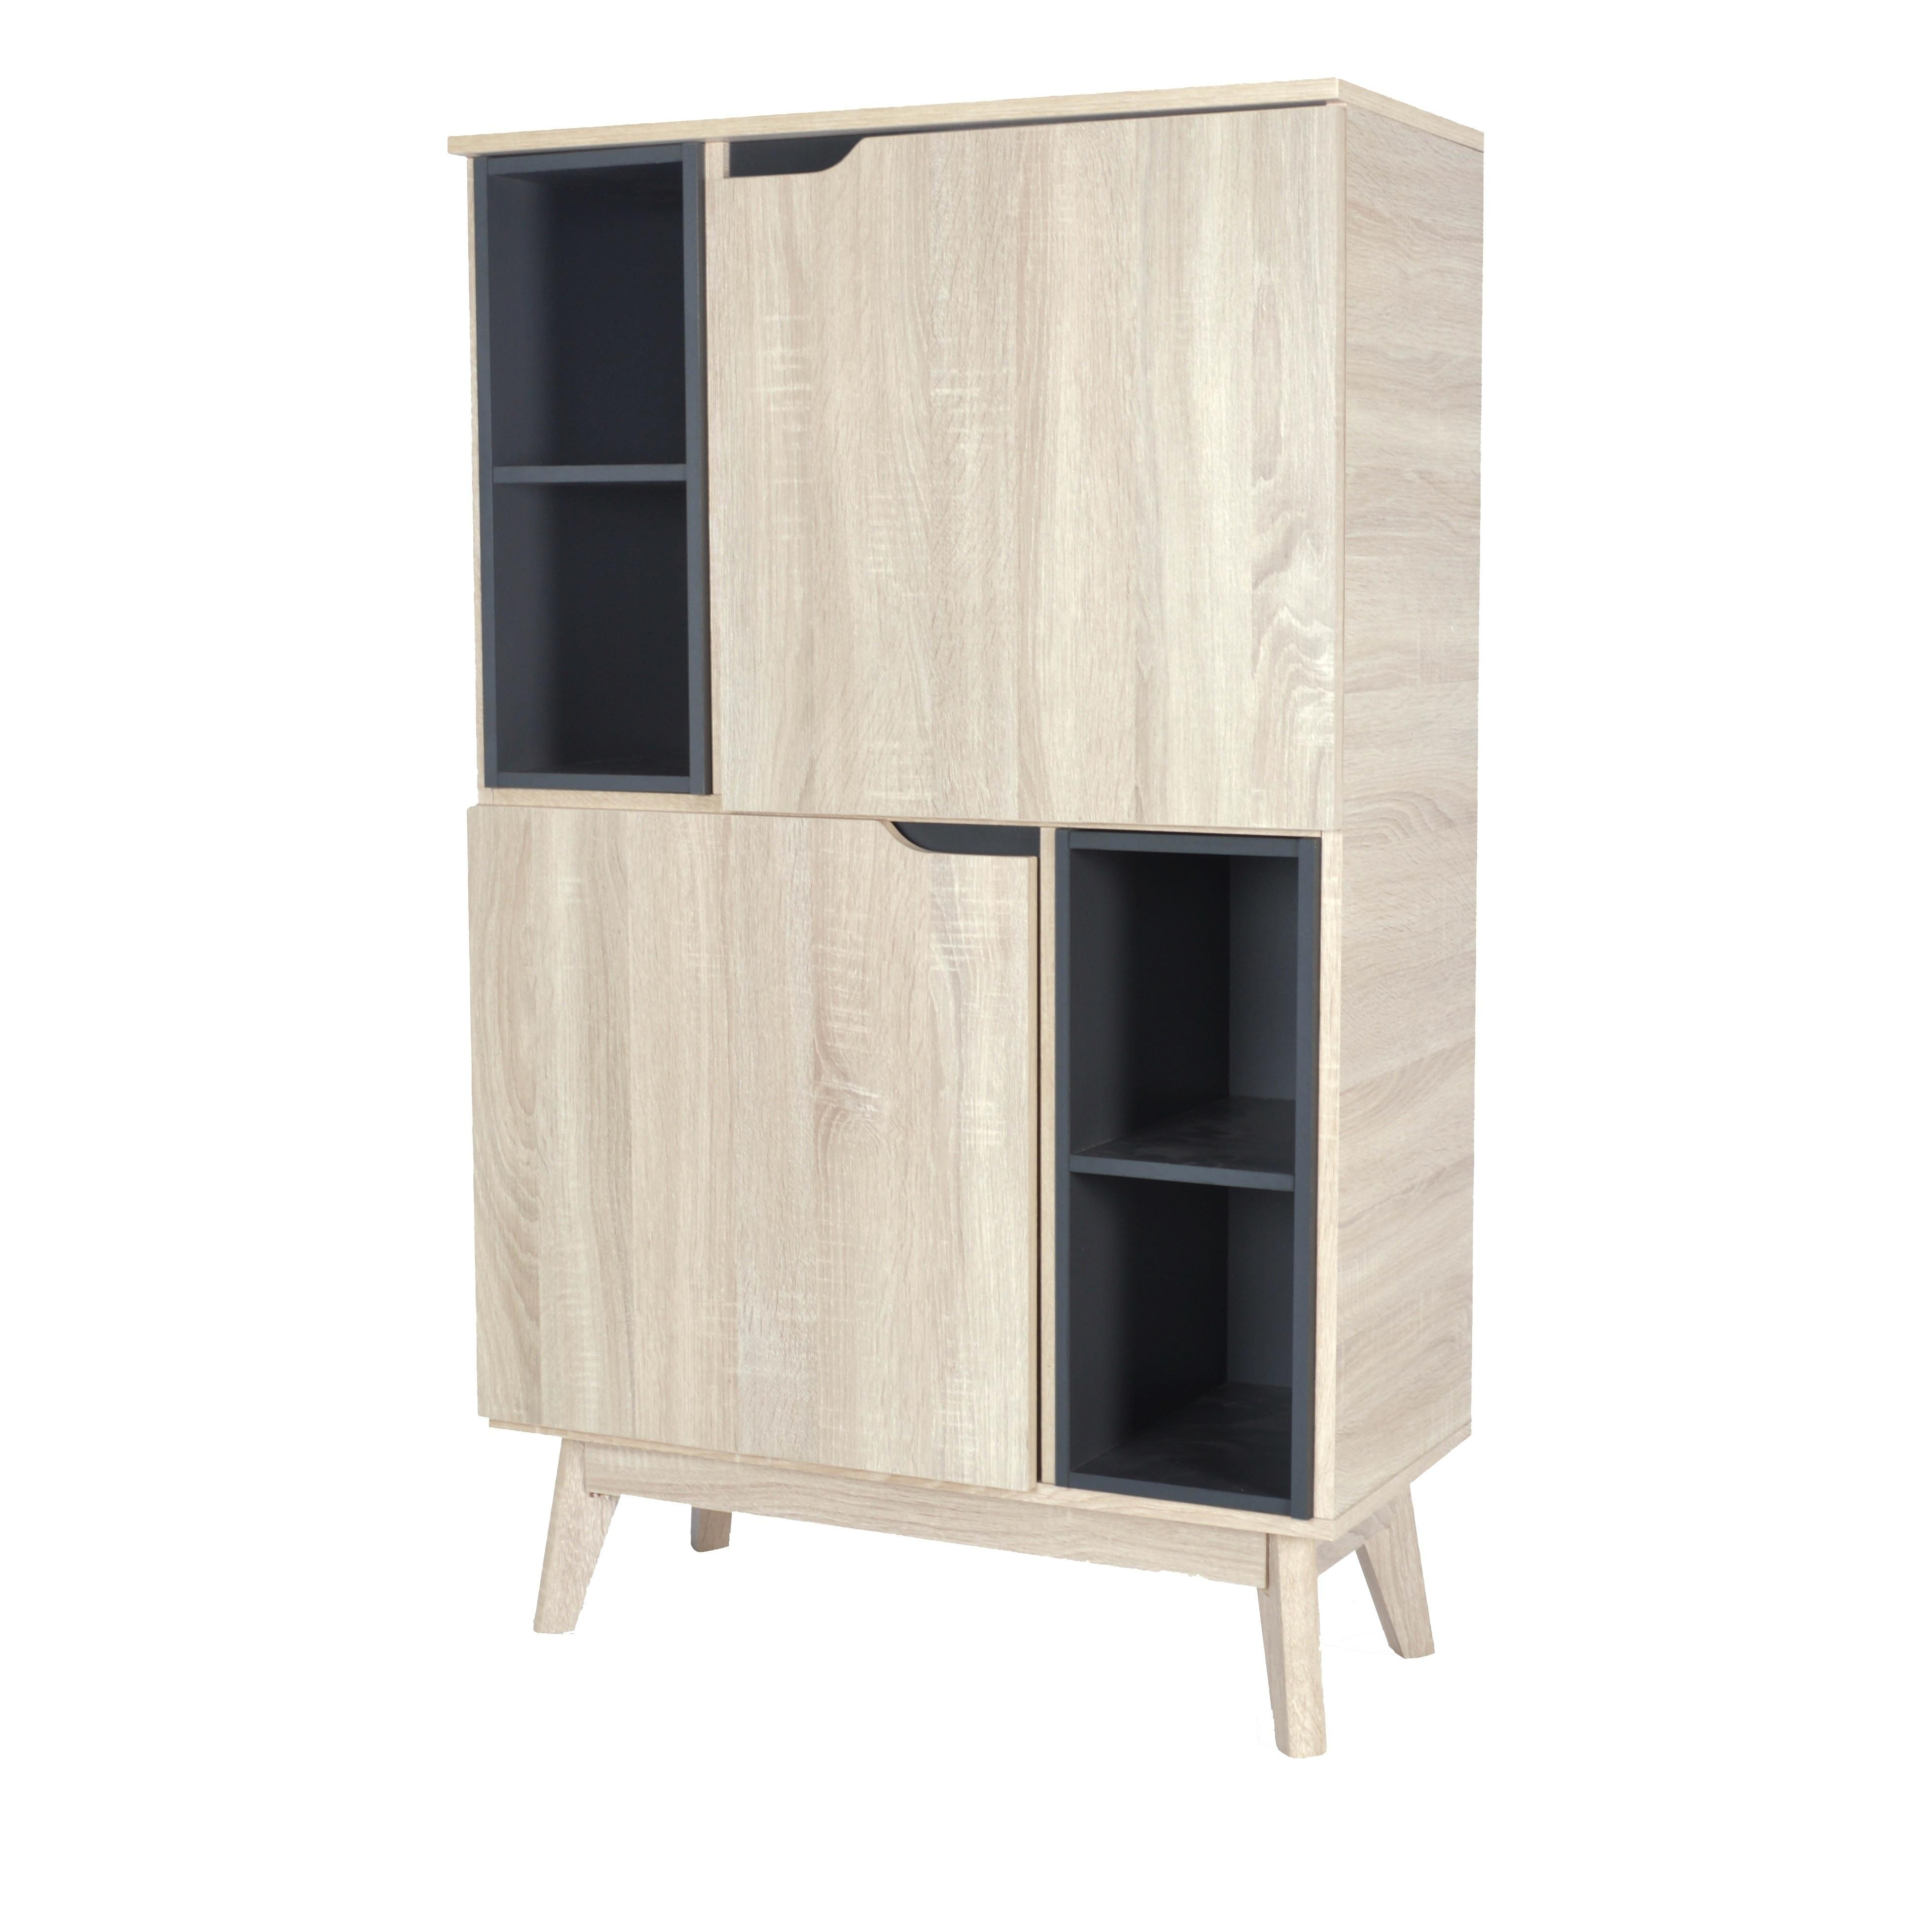cabinet_door: (704, 142, 1322, 817), (476, 800, 1049, 1445)
handle: (892, 805, 1040, 870), (727, 124, 869, 191)
